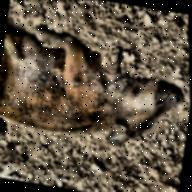boar: (0, 16, 191, 158)
